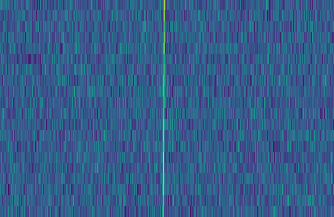signal: (158, 0, 167, 217)
